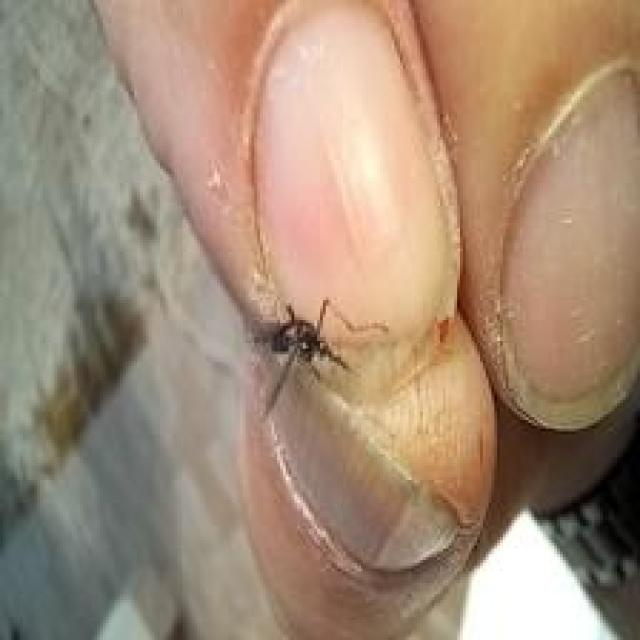Aedes albopictus: (252, 296, 388, 418)
